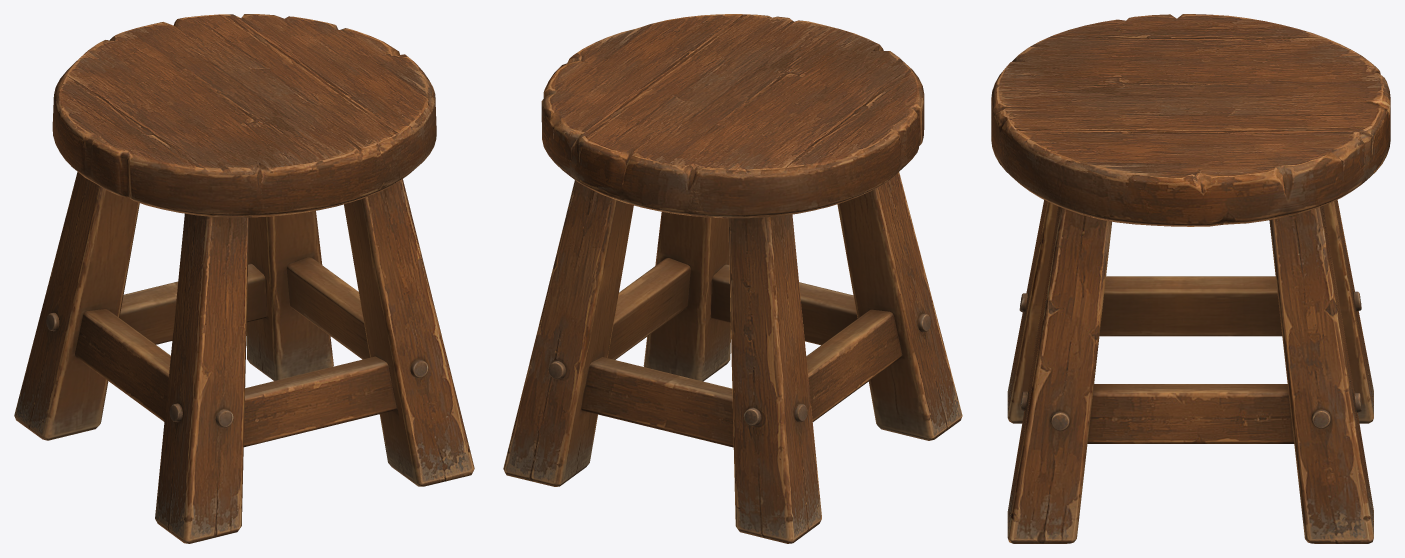
The model's file is P35_wood_stool_Runtime_1k.glb.
The picture shows the model from 3 angles, left to right: view 1: azimuth 30°, elevation 25°; view 2: azimuth 150°, elevation 25°; view 3: azimuth 270°, elevation 25°; orthographic projection. The views are drawn at different scales.
Visible parts, largest first — view 1: tripo_node_b0c985a2; view 2: tripo_node_b0c985a2; view 3: tripo_node_b0c985a2.
Boxes of the visible parts, x1,y1,x2,y2 form: tripo_node_b0c985a2: (14, 14, 474, 543); tripo_node_b0c985a2: (503, 14, 962, 543); tripo_node_b0c985a2: (991, 14, 1390, 543).
Size of the model in its own units: 0.4704 by 0.49 by 0.4699.
1 material, 1 textured.
